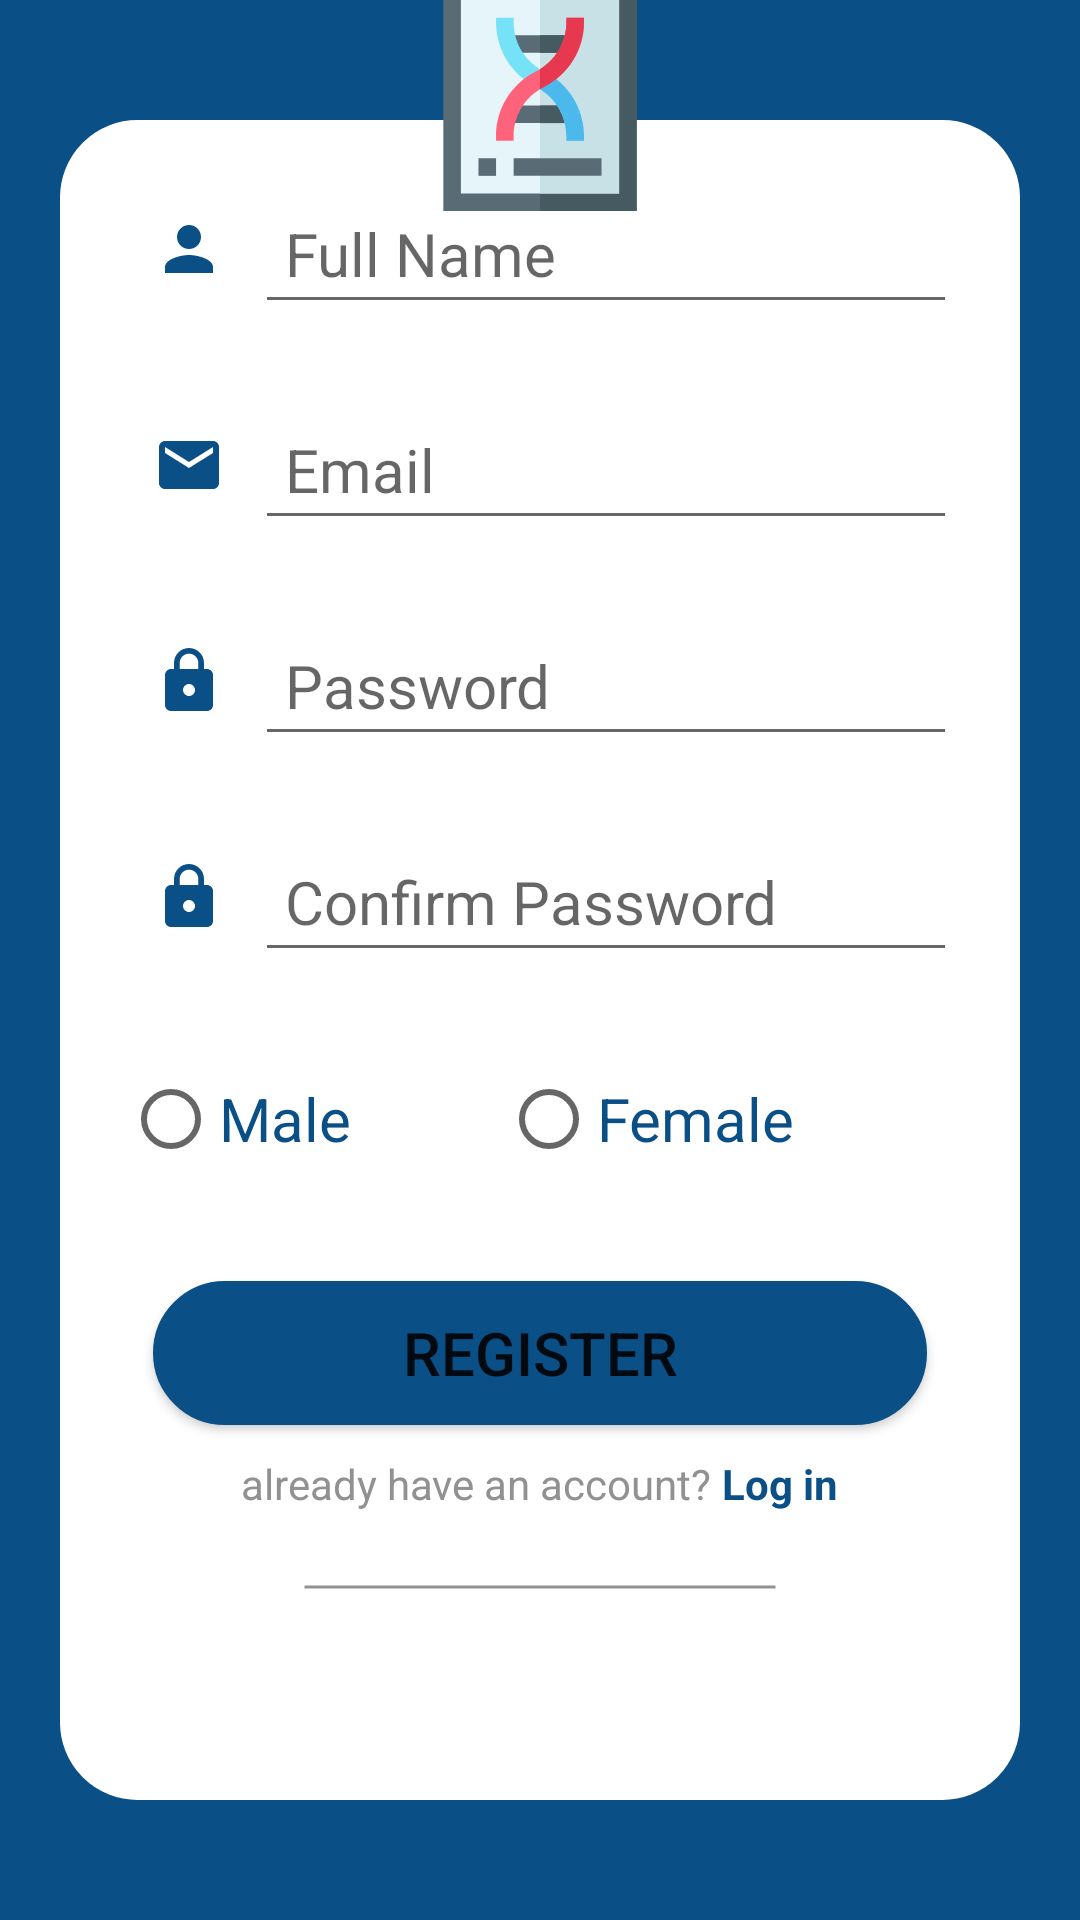

Screen size 1080w x 1920h. Icon name, then its box in pixels as (x1, y1, x2, y2):
lock: (165, 648, 213, 711), (165, 864, 213, 927)
person: (165, 225, 213, 273)
